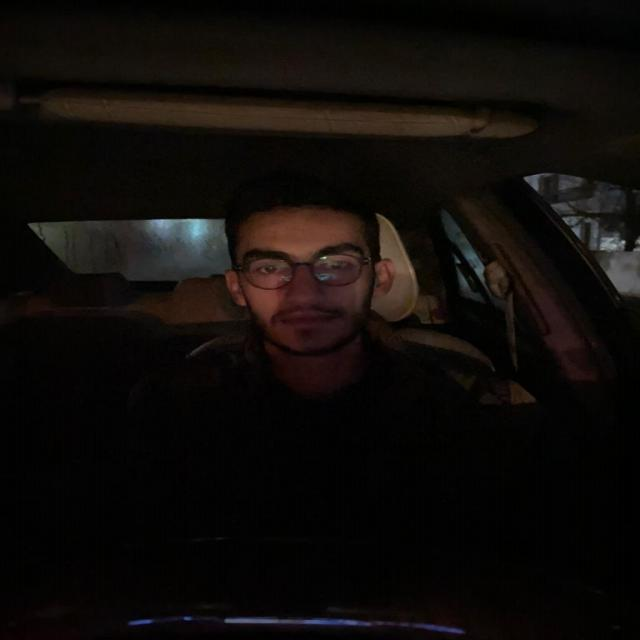person: (203, 179, 404, 372)
